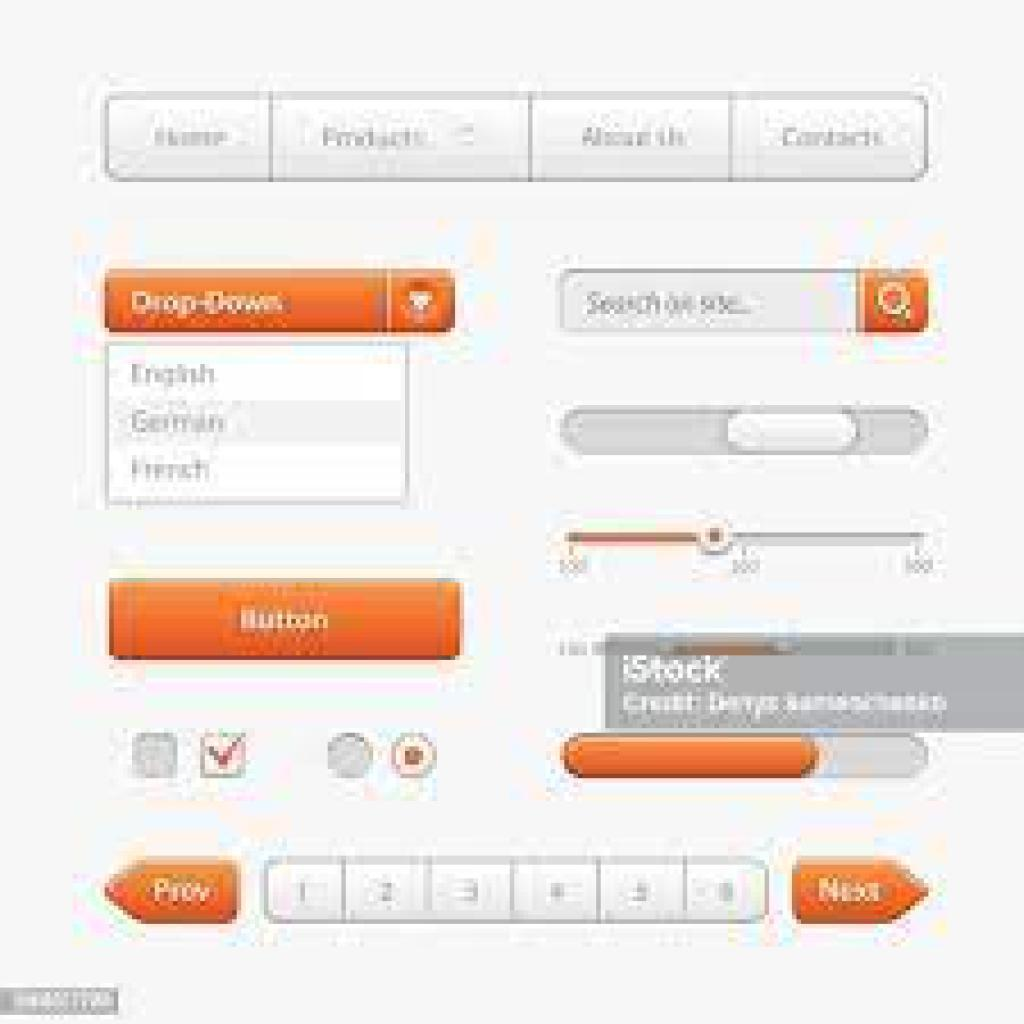button: (110, 579, 466, 663), (271, 91, 531, 182), (533, 91, 731, 182), (732, 91, 927, 182), (105, 94, 273, 182), (101, 858, 246, 931), (794, 855, 931, 922)
checkbox: (127, 729, 187, 786), (198, 727, 253, 783)
dropdown: (105, 274, 457, 333)
icon: (859, 270, 931, 334)
input: (560, 268, 858, 335)
radio: (319, 729, 380, 784), (390, 725, 439, 784)
slider: (558, 405, 932, 457), (562, 732, 932, 782), (561, 520, 934, 554)
